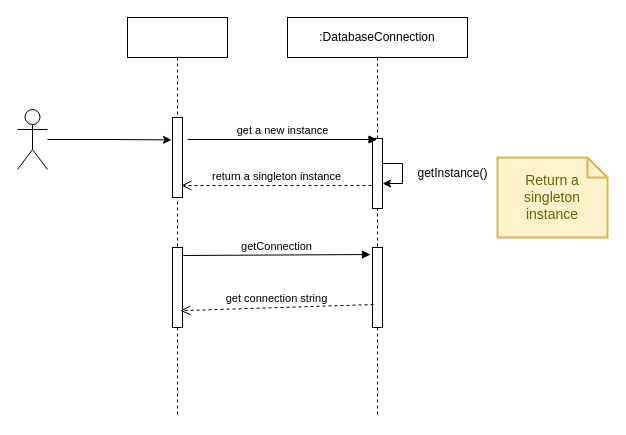
This 626x435 diagram has some shape labels left out. The shapes that lost their labels are listed below. From the top down, each one's centre as x and y in pixels, then its label:
(x=32, y=139): Actor
(x=177, y=217): :Client
